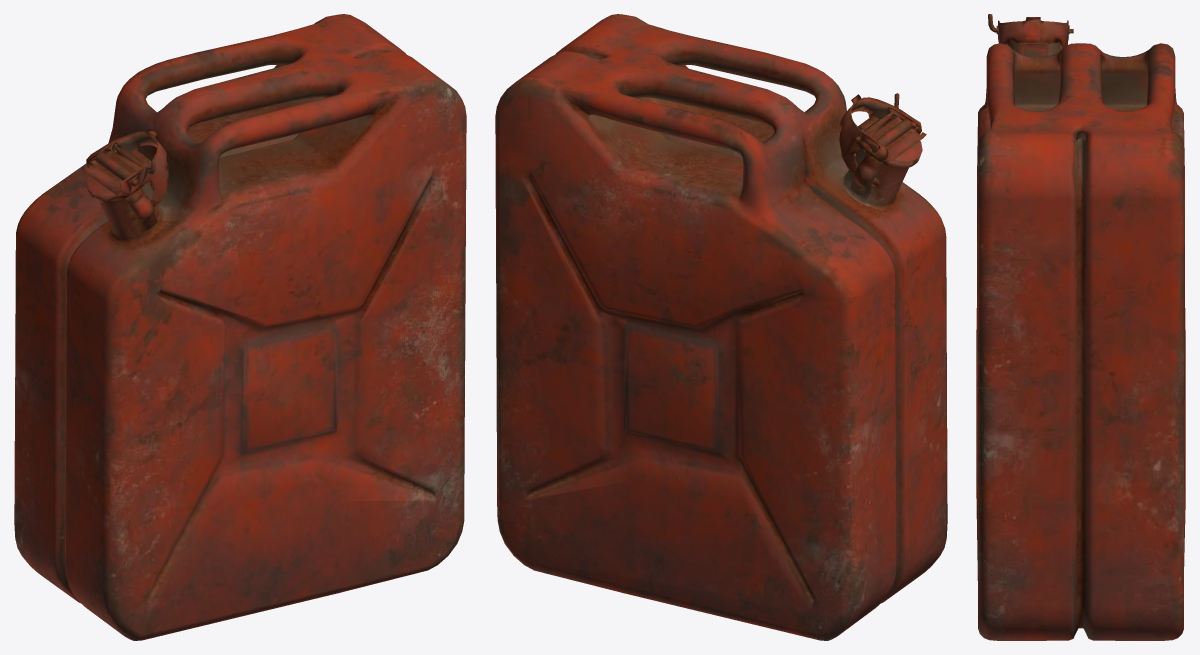
The model's file is jerrycan.glb.
The picture shows the model from 3 angles, left to right: view 1: azimuth 30°, elevation 25°; view 2: azimuth 150°, elevation 25°; view 3: azimuth 270°, elevation 25°; orthographic projection. The views are drawn at different scales.
Parts seen in each view (by area): view 1: metal_jerrycan; view 2: metal_jerrycan; view 3: metal_jerrycan.
Part boxes in pixels (x1,y1,x2,y2): metal_jerrycan: [14, 14, 466, 640]; metal_jerrycan: [495, 14, 947, 640]; metal_jerrycan: [976, 14, 1185, 640].
Bounding box in the file's own units: 0.3501 × 0.4549 × 0.1718.
Materials: 1 (1 with a texture image).
